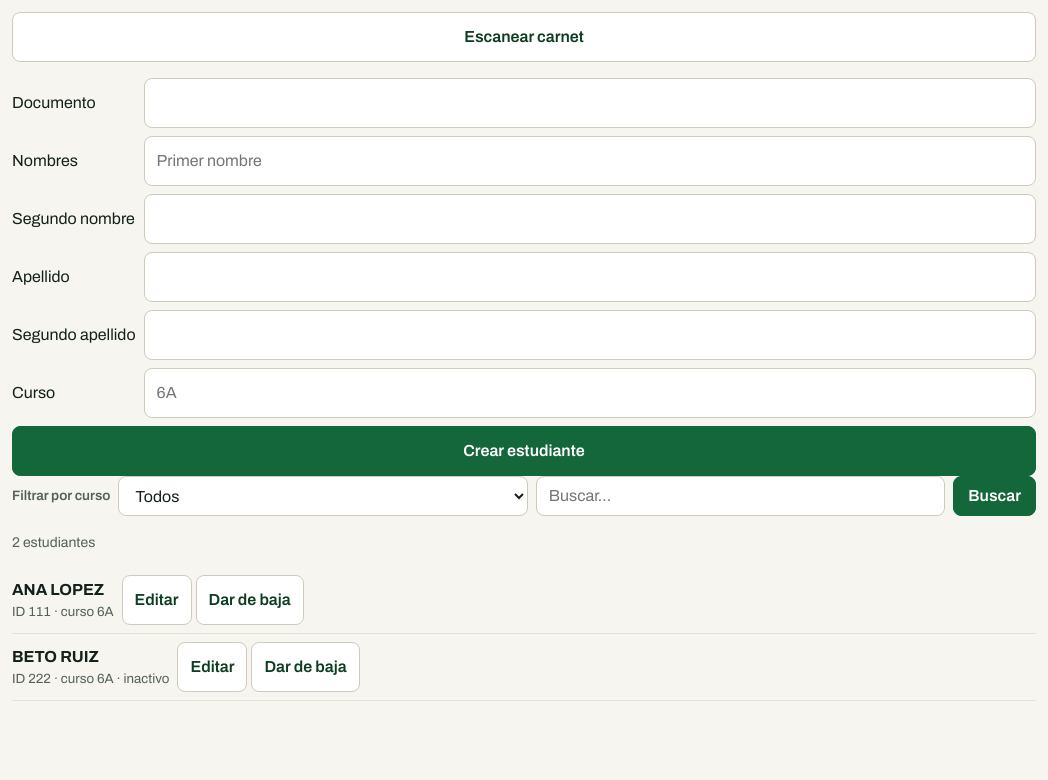
PanelEstudiantes › al dar de baja dice si se conservo el historial o si se borro de verdad
The width and height of the screenshot is (1048, 780).
Expected: the text "ANA LOPEZ" is shown, [12,578,114,602]
Click the button "Dar de baja" in the row of "ANA LOPEZ".
click(250, 600)  # box [196,575,304,625]
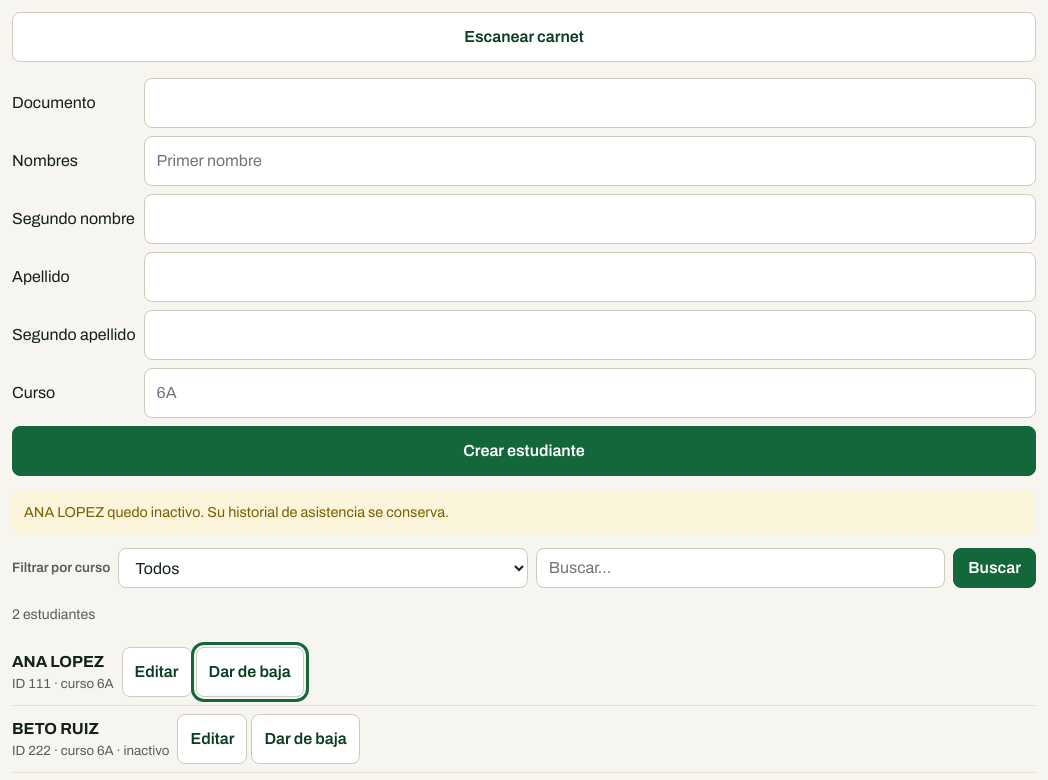
Result: the message shows "quedo inactivo. Su historial de asistencia se conserva" at [24,504,449,520]
